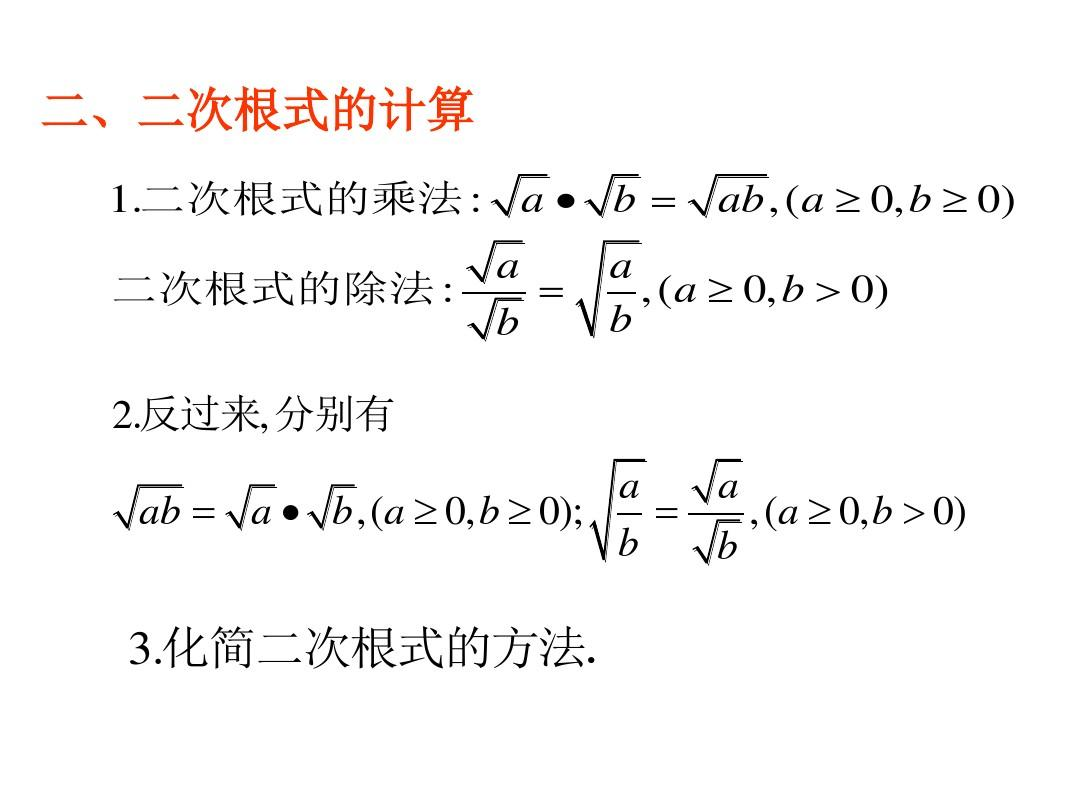division: (684, 506, 752, 526), (462, 287, 527, 301), (615, 505, 642, 522), (605, 288, 636, 300)
sqrt: (570, 235, 647, 342), (590, 453, 650, 563), (687, 170, 769, 218), (113, 480, 185, 531), (465, 235, 528, 283), (586, 169, 643, 220), (691, 517, 746, 568), (692, 452, 741, 508), (491, 169, 548, 215), (306, 482, 355, 530), (475, 296, 525, 340), (231, 481, 274, 531)
